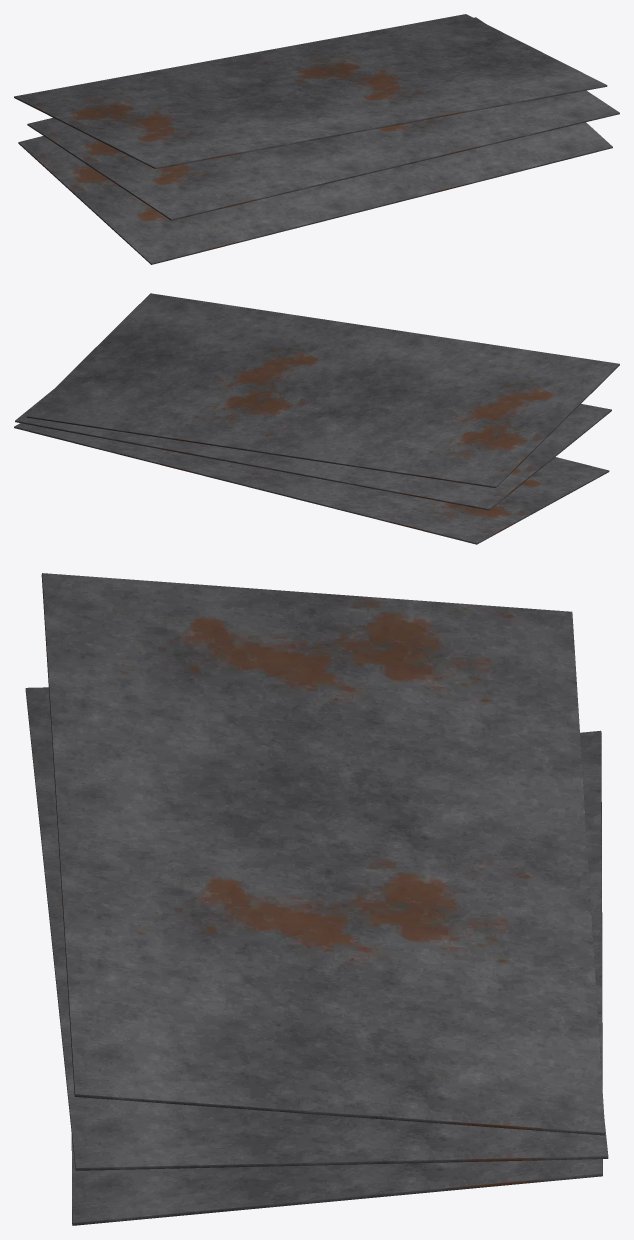
Rendered from EST-MET-005_anim.glb.
3 views of the same model, one above another, from view 1: azimuth 30°, elevation 25°; view 2: azimuth 150°, elevation 25°; view 3: azimuth 270°, elevation 25° (orthographic). The views are drawn at different scales.
Visible parts, largest first — view 1: EST-MET-005_anim2, EST-MET-005_anim1, EST-MET-005_anim0; view 2: EST-MET-005_anim2, EST-MET-005_anim0, EST-MET-005_anim1; view 3: EST-MET-005_anim2, EST-MET-005_anim1, EST-MET-005_anim0.
Part boxes in pixels (<box>): EST-MET-005_anim2: <box>14,14,607,168</box>; EST-MET-005_anim1: <box>27,17,619,220</box>; EST-MET-005_anim0: <box>18,122,612,264</box>; EST-MET-005_anim2: <box>26,293,619,487</box>; EST-MET-005_anim0: <box>14,423,609,544</box>; EST-MET-005_anim1: <box>15,391,611,510</box>; EST-MET-005_anim2: <box>41,573,605,1135</box>; EST-MET-005_anim1: <box>25,687,608,1170</box>; EST-MET-005_anim0: <box>71,730,602,1225</box>.
Size of the model in its own units: 2.09 by 0.4282 by 1.09.
1 material, 1 textured.
